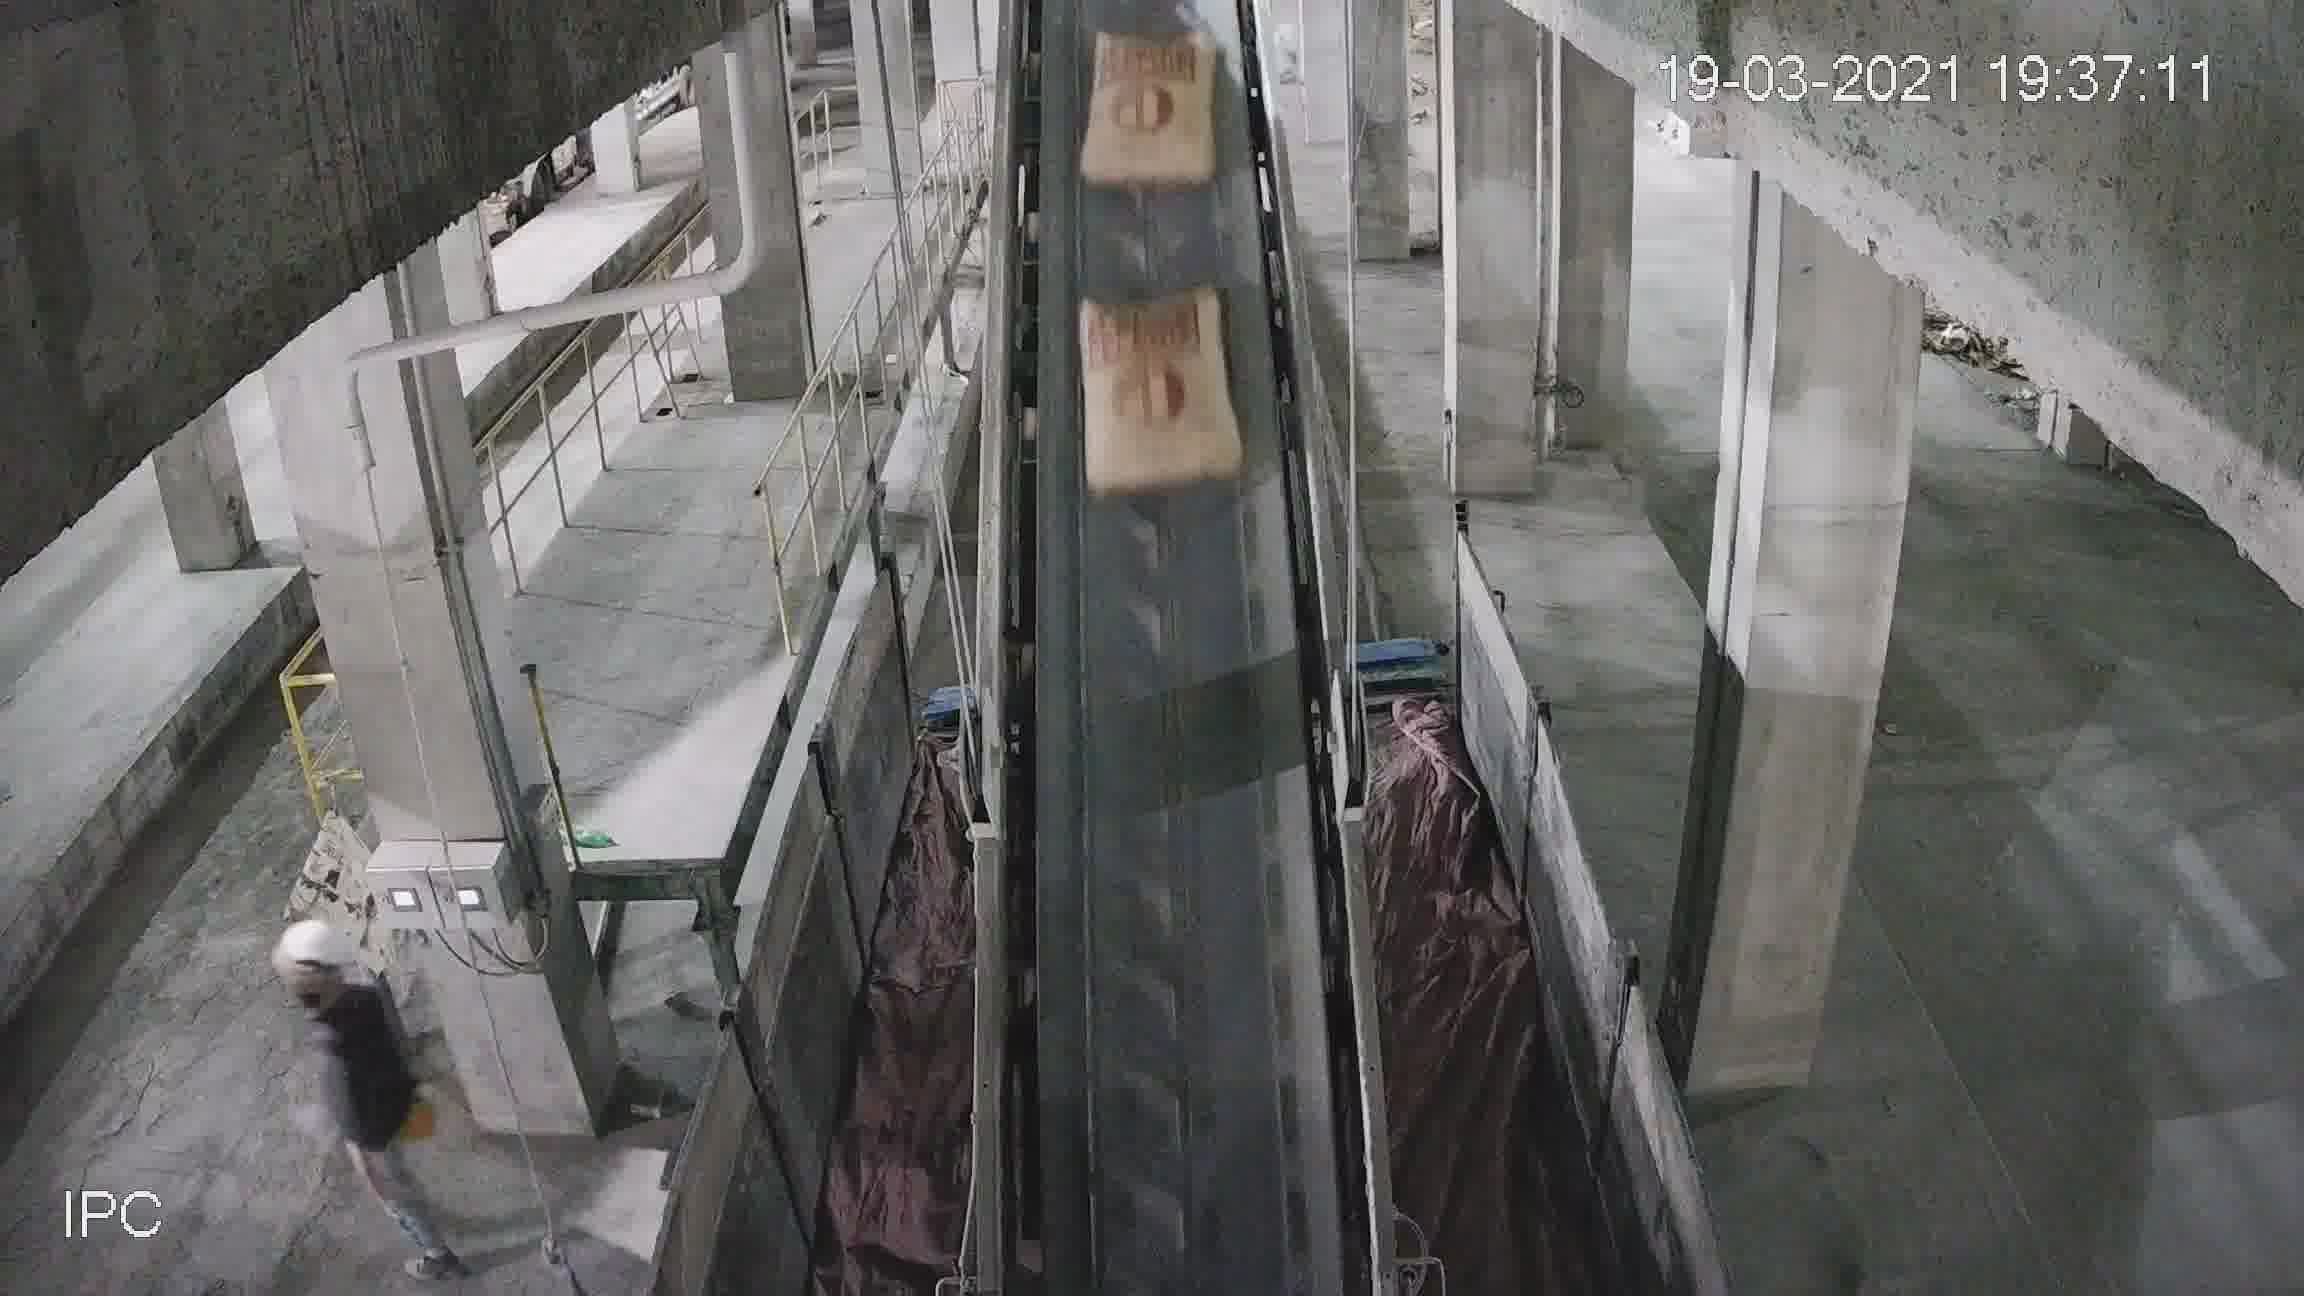bag: (1078, 294, 1244, 487), (1087, 40, 1215, 188)
belt: (984, 135, 1343, 1161)
